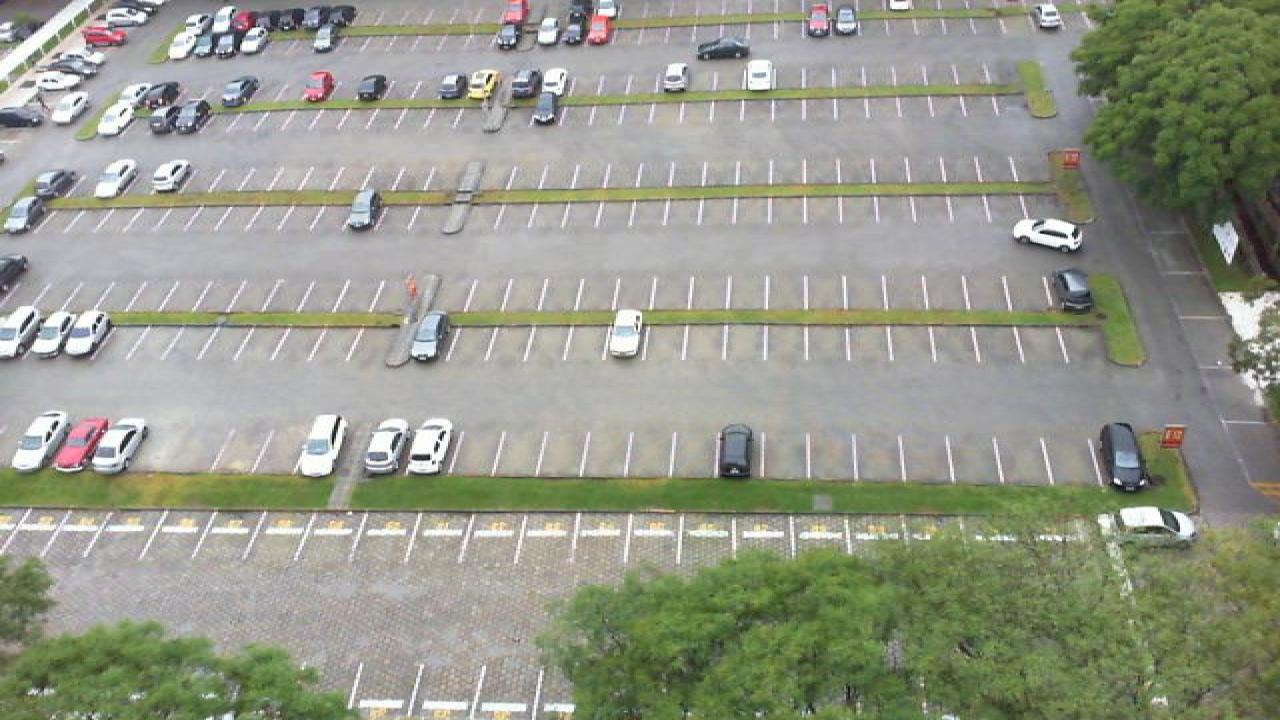Car: (1092, 420, 1150, 492), (10, 411, 70, 470), (1112, 504, 1198, 544), (294, 412, 346, 477), (90, 420, 148, 474), (52, 416, 110, 469), (54, 309, 112, 359), (406, 417, 454, 477), (362, 416, 410, 475), (1010, 216, 1086, 252), (24, 308, 76, 357), (714, 423, 758, 480), (406, 312, 452, 361), (0, 305, 42, 357), (606, 307, 644, 359), (1052, 268, 1094, 312), (42, 85, 88, 125), (96, 156, 138, 198), (342, 189, 382, 231), (150, 159, 192, 197), (94, 100, 138, 136), (40, 163, 80, 198), (114, 80, 156, 112), (176, 99, 214, 134), (164, 26, 202, 61), (222, 74, 260, 108), (302, 68, 336, 104), (148, 101, 184, 135), (104, 6, 156, 29), (46, 53, 100, 75), (742, 60, 778, 92), (530, 91, 562, 125), (466, 68, 498, 102), (804, 2, 834, 38), (80, 25, 128, 47), (584, 11, 614, 46), (658, 62, 690, 94), (540, 66, 572, 98), (356, 72, 390, 102), (0, 106, 44, 129), (30, 70, 78, 91), (192, 27, 222, 60), (144, 81, 180, 108), (214, 27, 244, 59), (1034, 1, 1064, 32), (436, 72, 468, 101), (494, 19, 522, 51), (832, 4, 860, 36), (560, 16, 588, 47), (184, 7, 218, 32), (210, 6, 240, 34), (308, 24, 336, 54), (538, 15, 562, 50), (240, 27, 268, 56), (254, 7, 286, 32), (504, 70, 532, 98), (232, 6, 260, 32), (330, 4, 358, 30), (282, 6, 310, 31), (304, 5, 332, 30), (500, 0, 528, 25), (568, 0, 592, 19), (592, 0, 620, 16), (886, 0, 912, 11)
